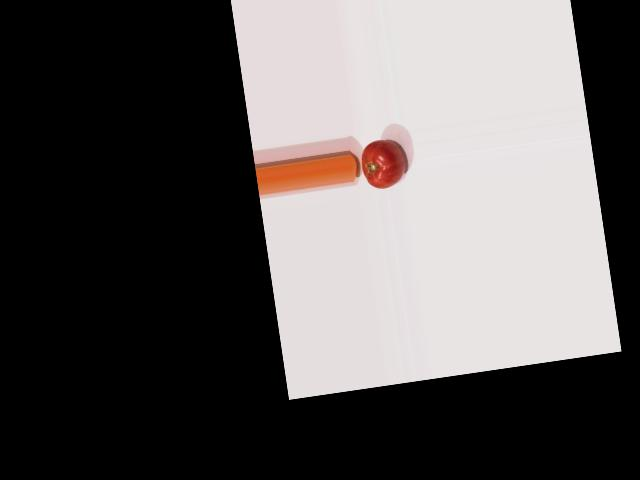tomato: (359, 137, 407, 191)
